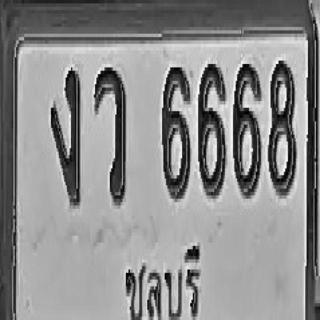A07: (50, 68, 80, 206)
A37: (94, 66, 126, 204)
N06: (162, 64, 190, 199), (233, 61, 261, 195), (198, 61, 225, 195)
N08: (268, 57, 296, 195)
P13: (117, 244, 206, 320)
